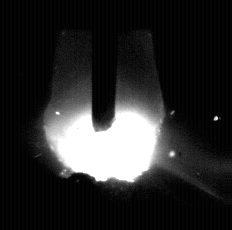arame: (92, 0, 117, 131)
poca: (44, 0, 160, 230)
